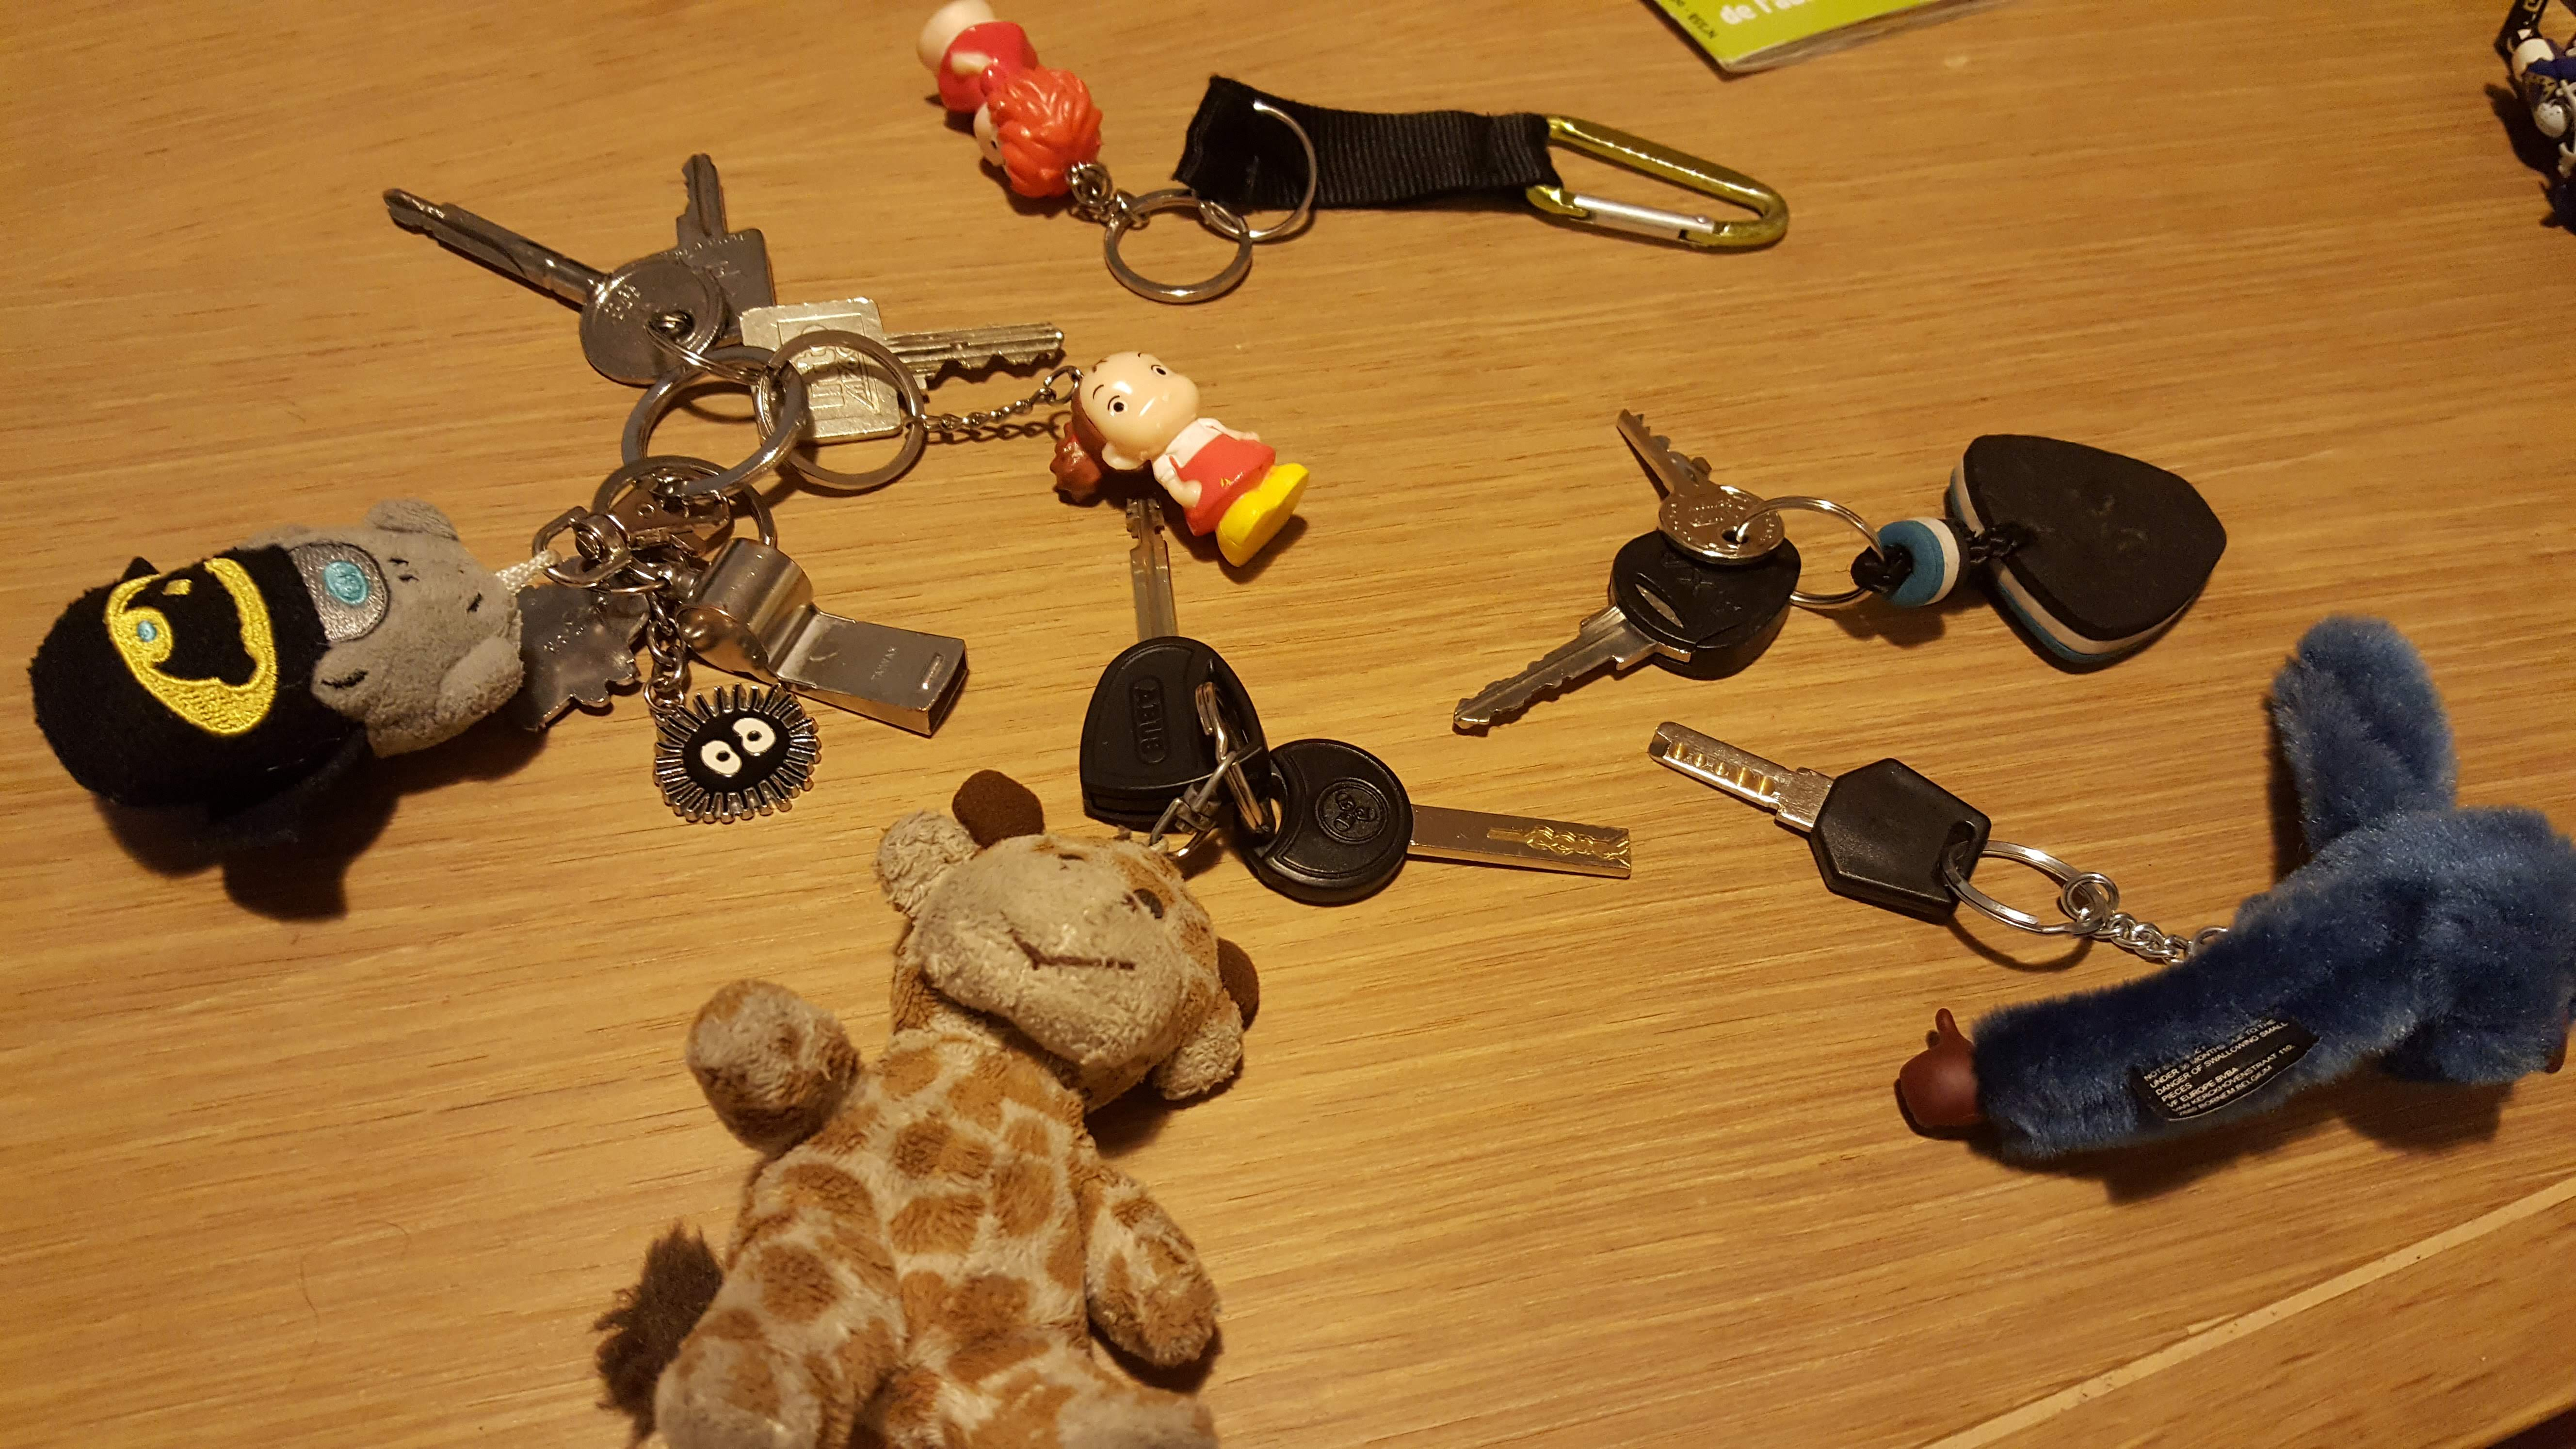key: (377, 188, 738, 398)
